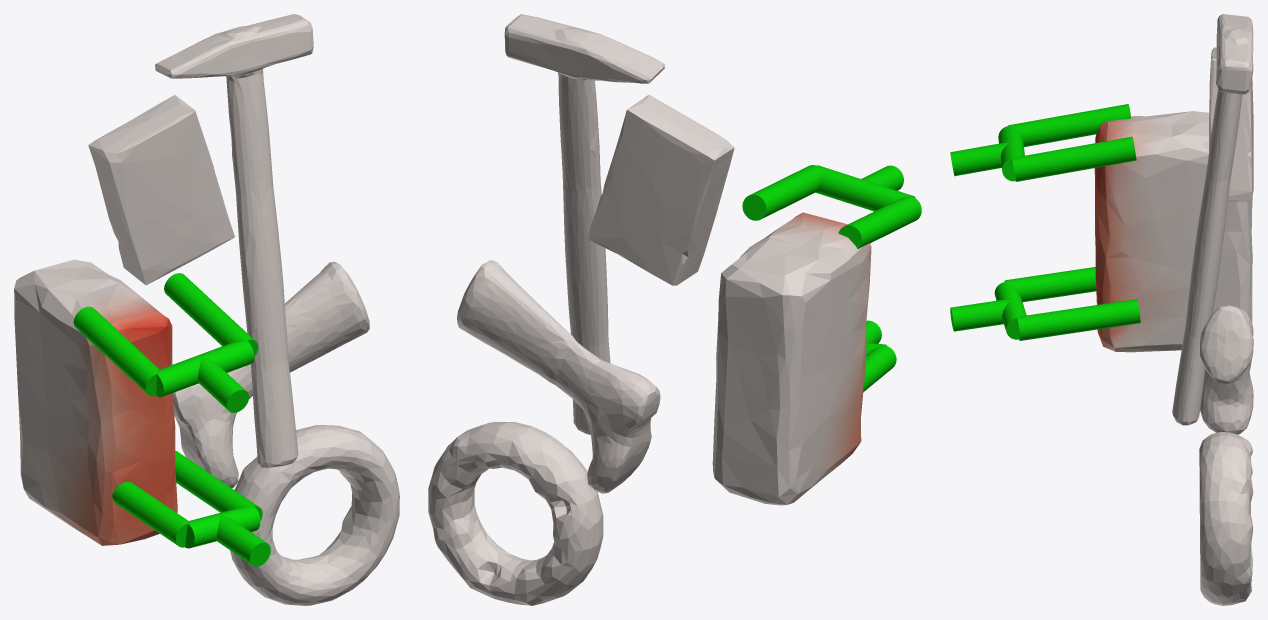
The model's file is round_000_trial_000.obj.
The picture shows the model from 3 angles, left to right: view 1: azimuth 30°, elevation 25°; view 2: azimuth 150°, elevation 25°; view 3: azimuth 270°, elevation 25°; orthographic projection. The views are drawn at different scales.
Parts seen in each view (by area): view 1: geometry_0, geometry_1, geometry_2; view 2: geometry_0, geometry_1, geometry_2; view 3: geometry_0, geometry_1, geometry_2.
Boxes of the visible parts, box(x1,y1,x2,y2) form: geometry_0: box(14, 14, 399, 605); geometry_1: box(73, 273, 258, 412); geometry_2: box(112, 451, 270, 566); geometry_0: box(428, 14, 871, 605); geometry_1: box(742, 165, 921, 248); geometry_2: box(863, 320, 896, 391); geometry_0: box(1094, 14, 1253, 605); geometry_1: box(950, 104, 1136, 181); geometry_2: box(950, 267, 1140, 340).
Size of the model in its own units: 0.1624 by 0.2414 by 0.1243.
